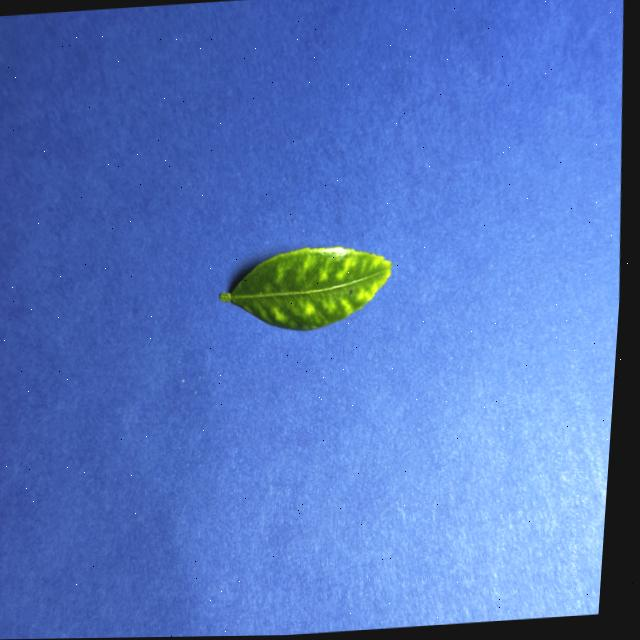greening: (218, 247, 391, 330)
